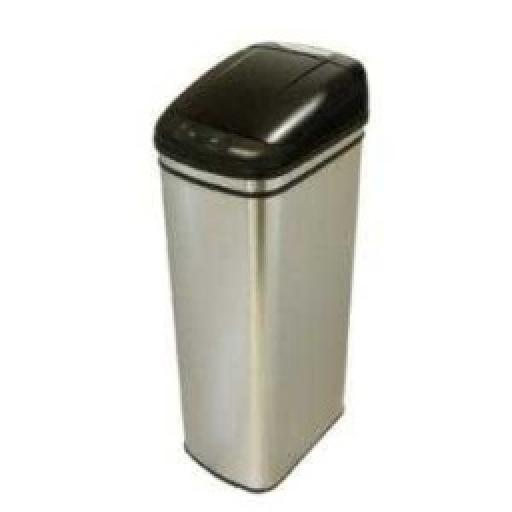trash-can: (142, 22, 398, 512)
